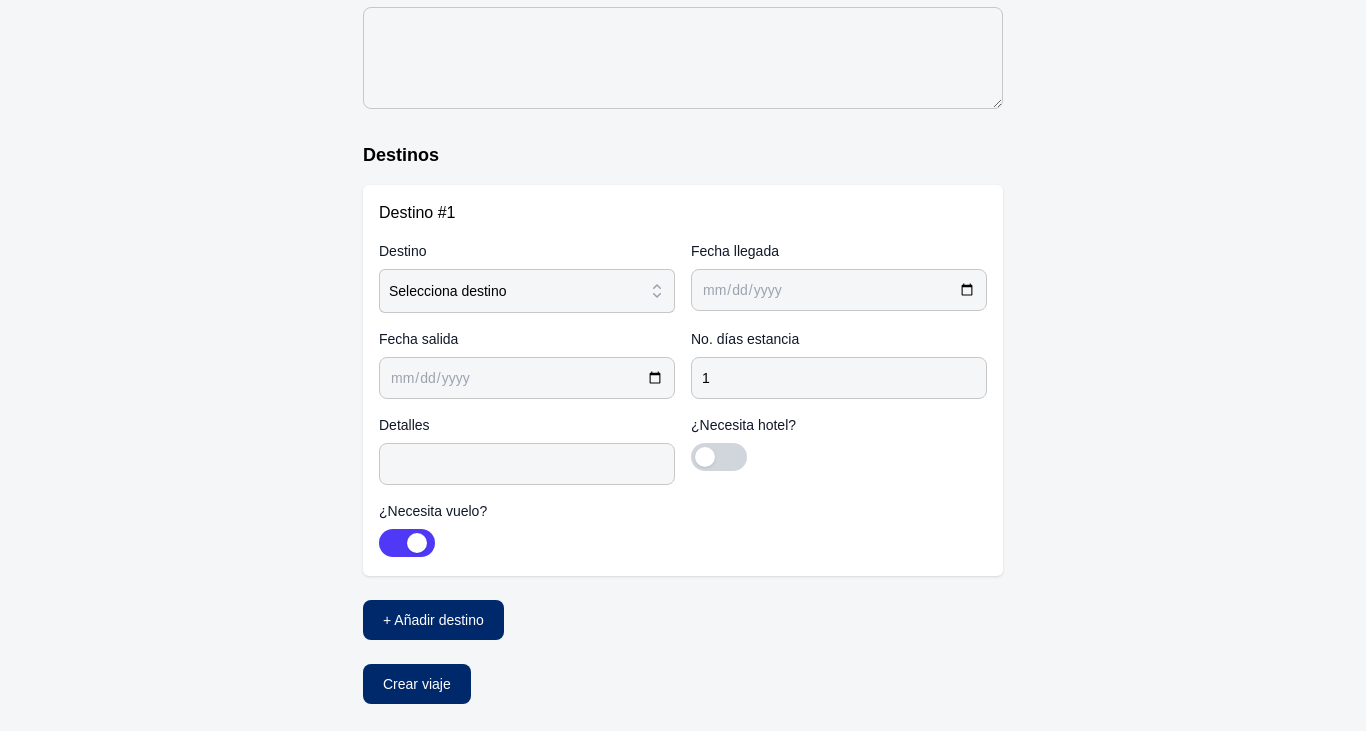
CreateTravelRequestForm – render y validación inicial › muestra error si se intenta enviar sin Motivo
The width and height of the screenshot is (1366, 731).
(page scrolled)
Click the button "Crear viaje". click: (417, 684)
box: [363, 664, 471, 704]
(page scrolled)
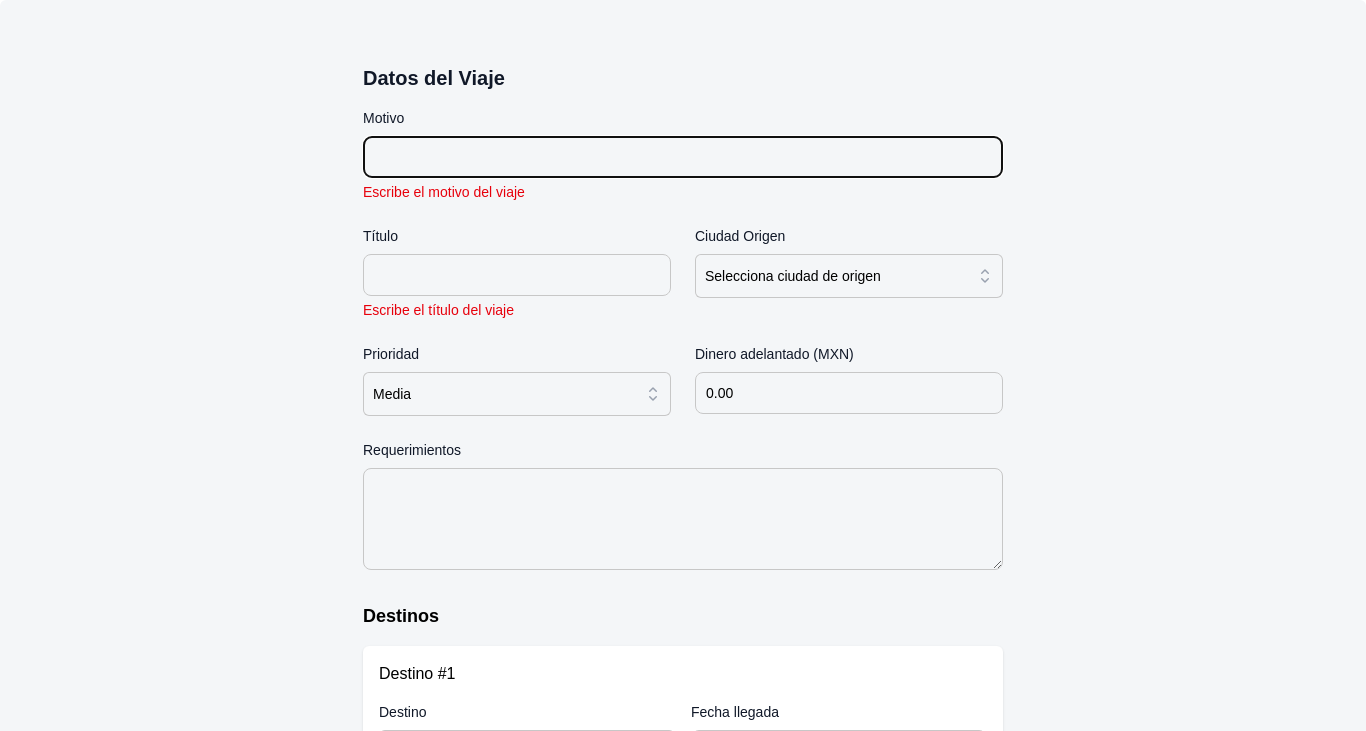
Expected: the text "Escribe el motivo del viaje" is shown, [363, 184, 525, 200]
